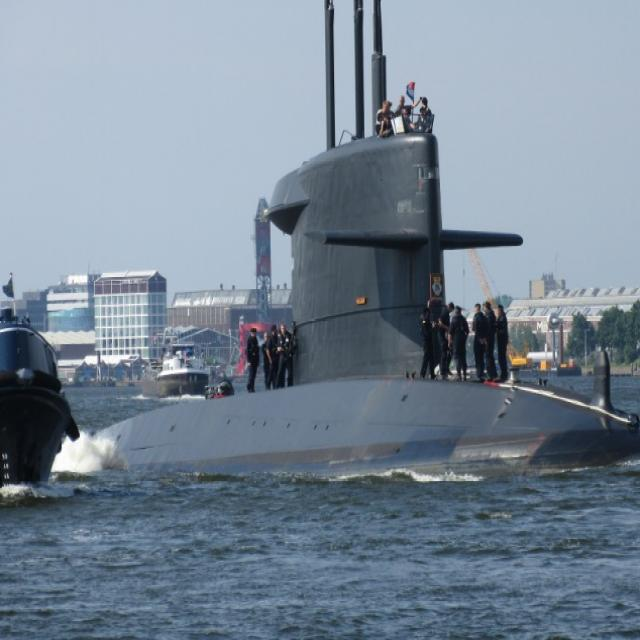submarine: (75, 127, 640, 483)
